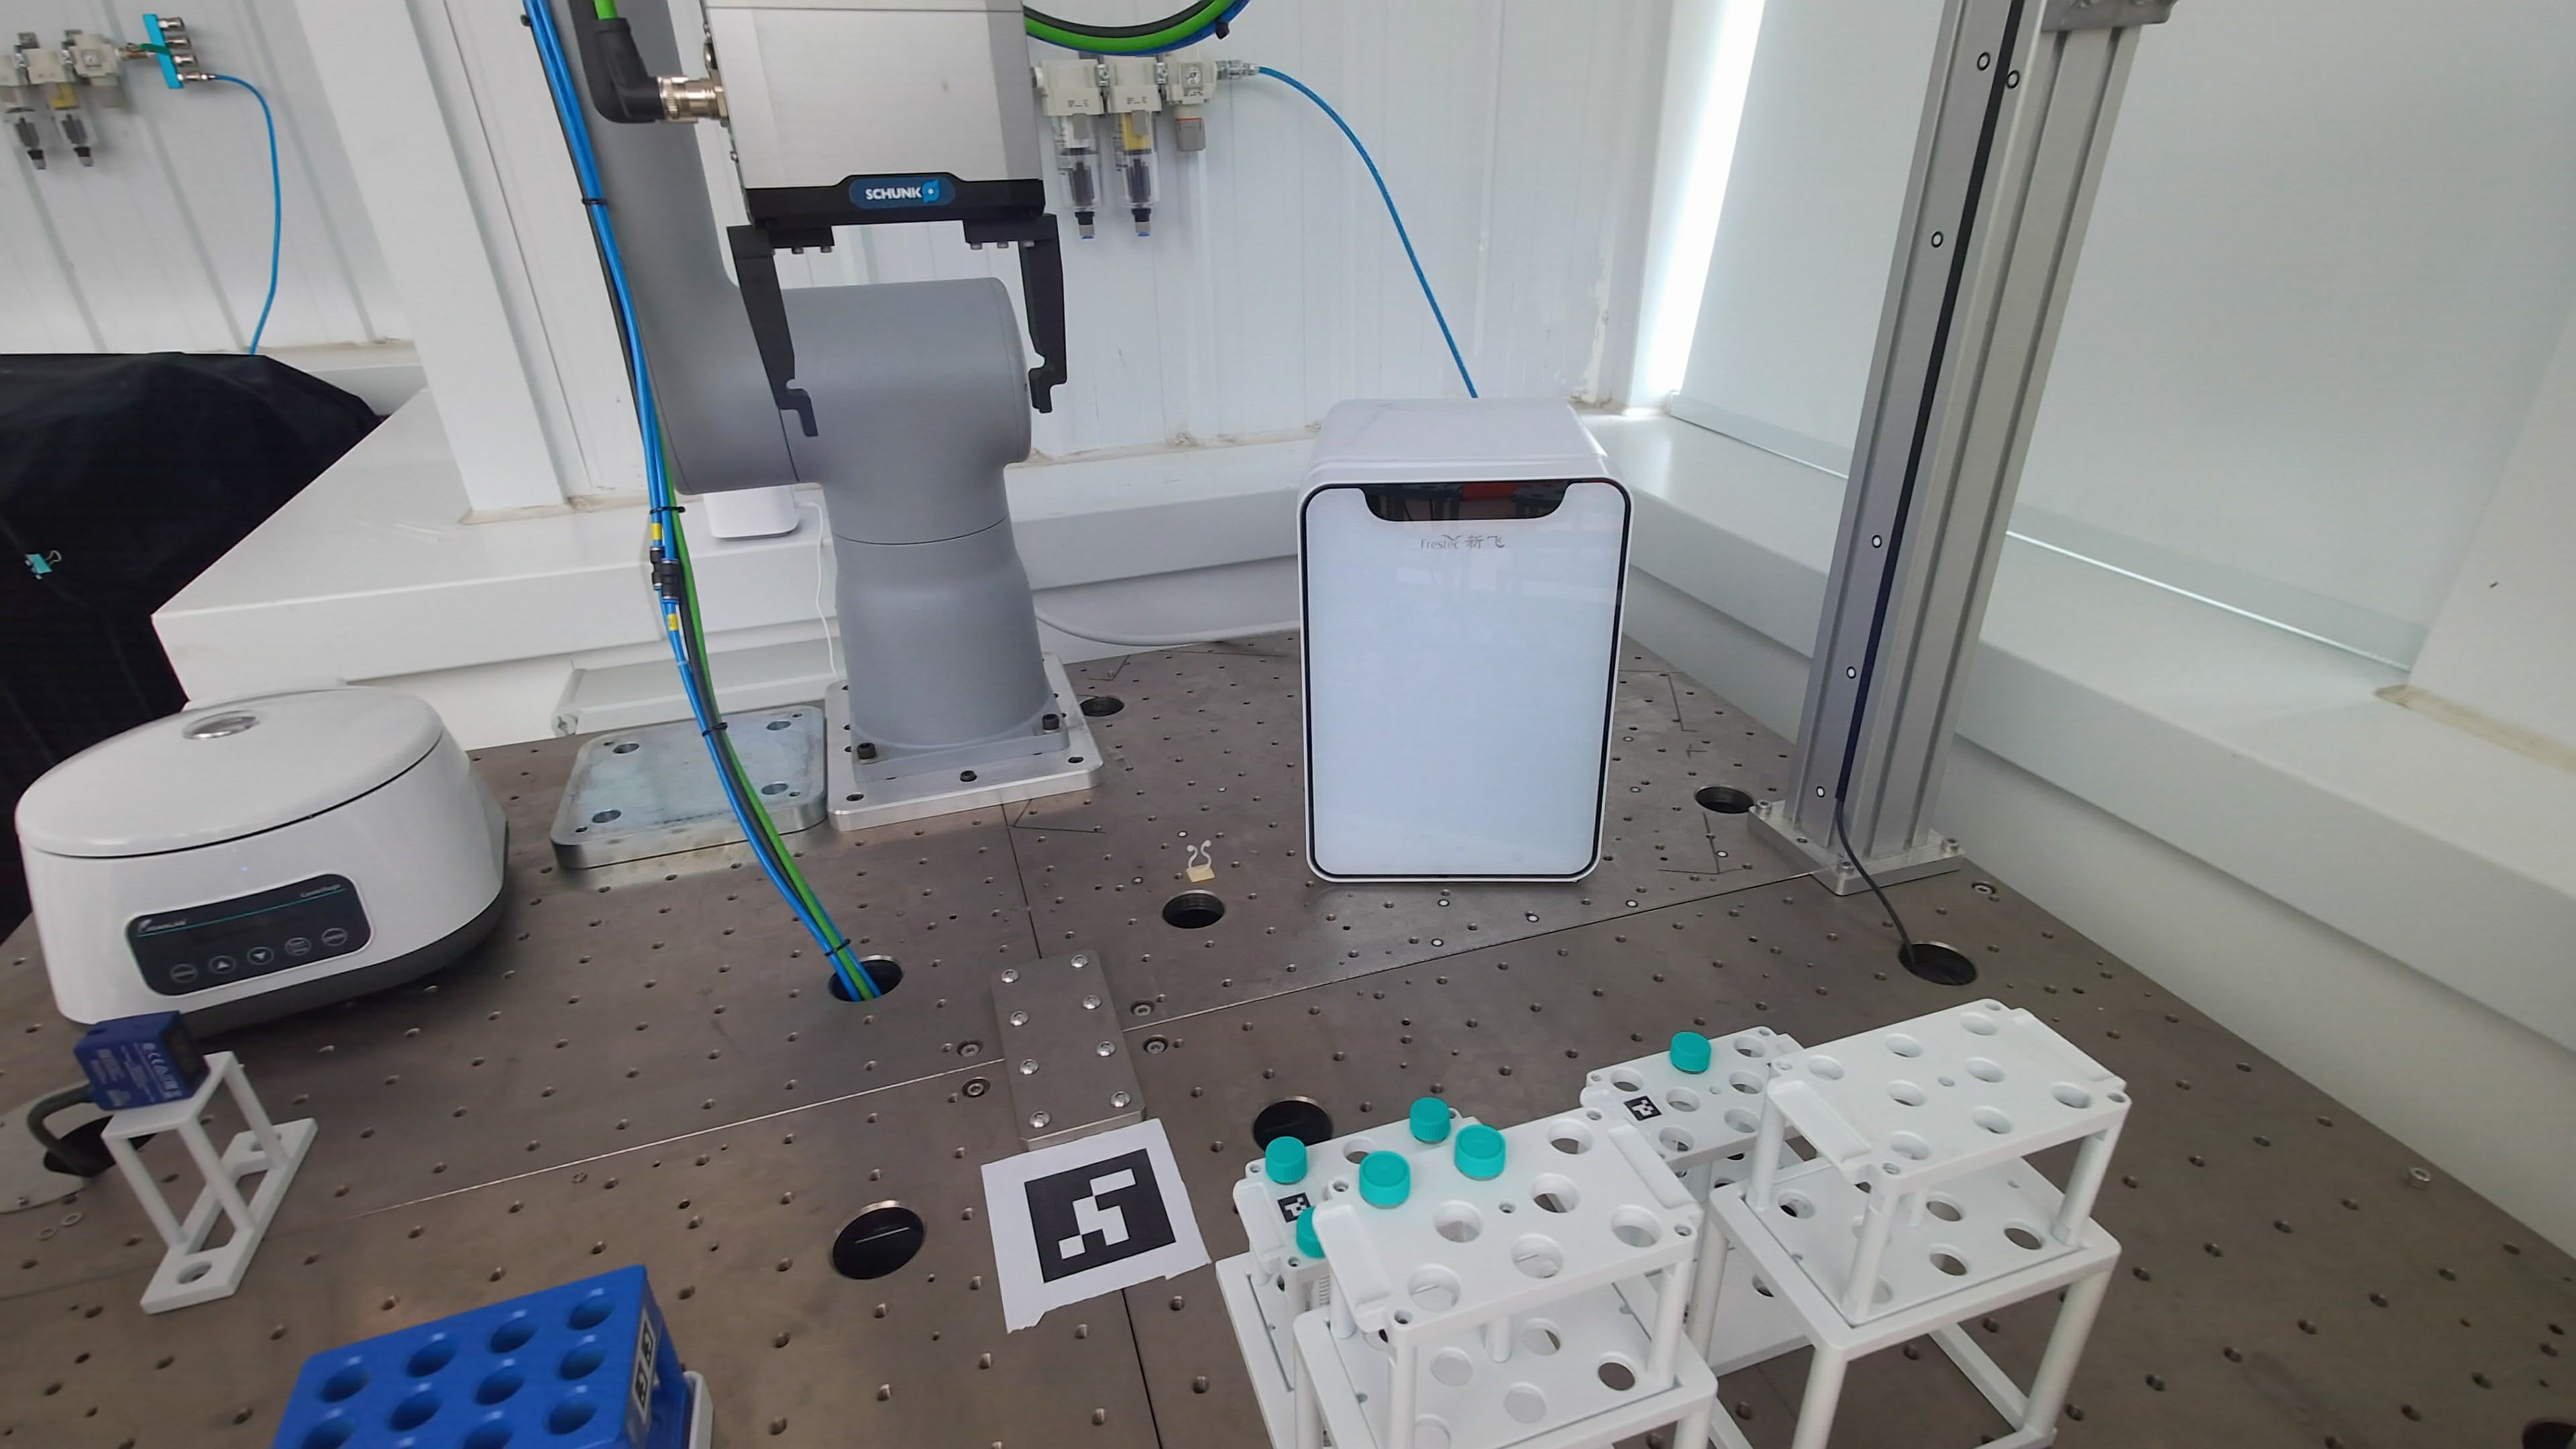10ML_centrifuge_tube: (1265, 1136, 1309, 1185), (1410, 1097, 1453, 1143), (1668, 1031, 1713, 1074), (1295, 1207, 1325, 1258)
10ML_sorting_tube_rack: (274, 1265, 709, 1449)
5ML_centrifuge_tube: (1357, 1150, 1412, 1208), (1454, 1123, 1507, 1180)
centrifuge_close: (16, 688, 506, 1033)
dispensing_tube_rack: (1217, 1000, 2128, 1447)
refrigerator_close: (1299, 400, 1629, 883)
sorting_tube_rack_base: (685, 1371, 715, 1449)
